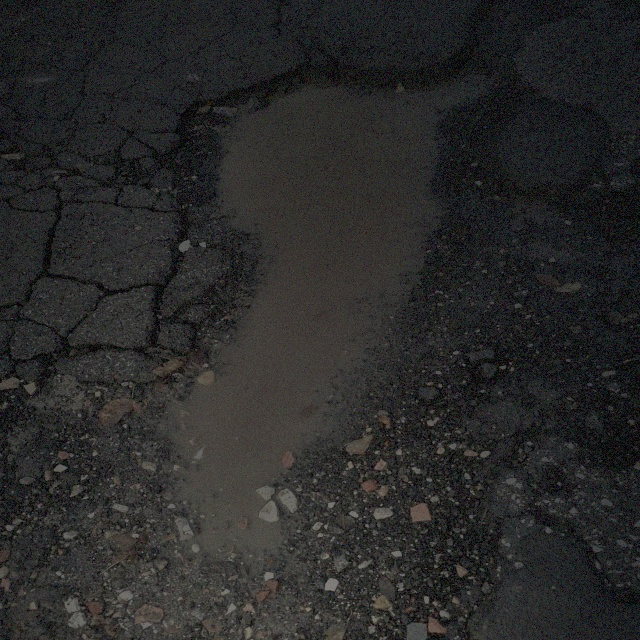pothole: (161, 42, 481, 463)
